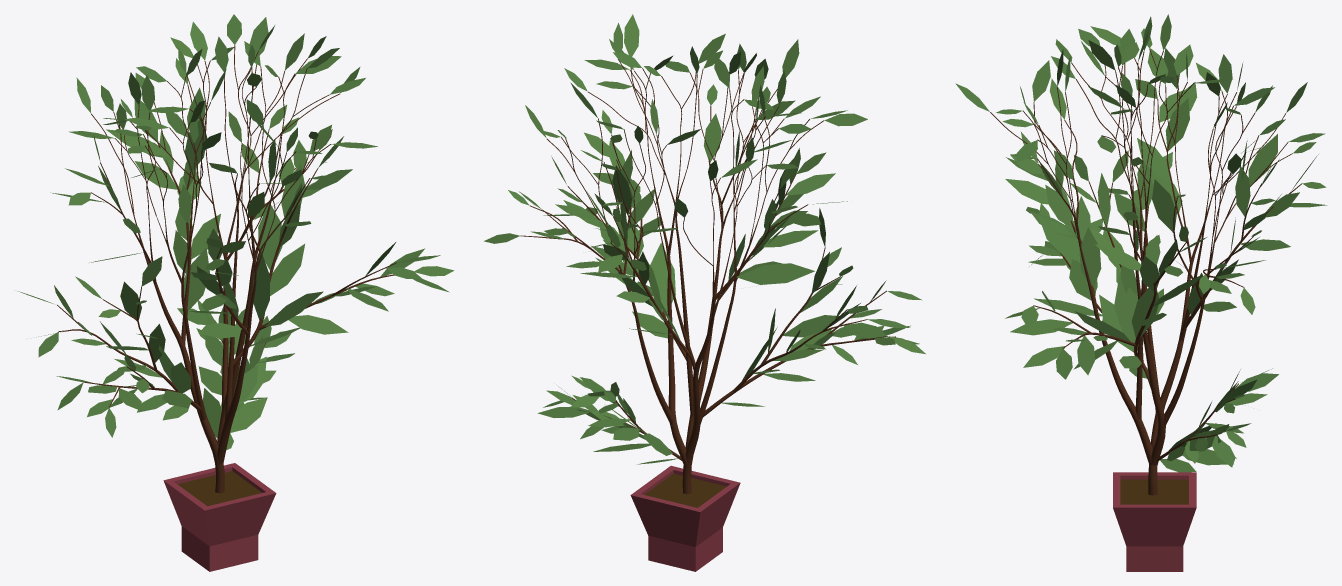
File: Plant-3.fbx
3 renders of one model, left to right at view 1: azimuth 30°, elevation 25°; view 2: azimuth 150°, elevation 25°; view 3: azimuth 270°, elevation 25°, orthographic. The views are drawn at different scales.
Visible parts, largest first — view 1: leaves, tree, Pot, Mud; view 2: leaves, tree, Pot, Mud; view 3: leaves, tree, Pot, Mud.
Boxes of the visible parts, x1,y1,x2,y2 form: leaves: (17, 14, 454, 449); tree: (57, 45, 396, 493); Pot: (163, 463, 276, 571); Mud: (178, 471, 261, 506); leaves: (484, 14, 925, 464); tree: (520, 59, 895, 494); Pot: (630, 465, 740, 571); Mud: (644, 473, 726, 507); leaves: (955, 14, 1327, 472); tree: (990, 48, 1302, 495); Pot: (1113, 472, 1196, 571); Mud: (1120, 479, 1188, 504).
Bounding box in the file's own units: 155 × 195 × 125.
